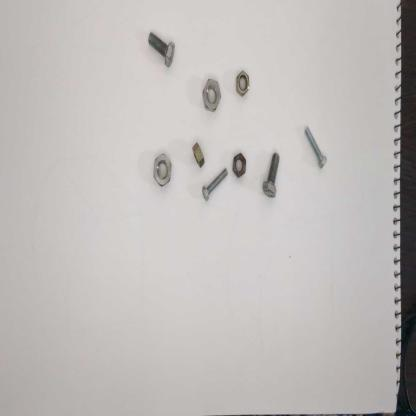Bolts: (144, 23, 177, 72), (300, 121, 328, 178), (261, 150, 283, 202), (200, 167, 230, 203)
NUTS: (201, 73, 226, 113), (151, 149, 172, 187), (190, 137, 208, 172), (233, 67, 252, 98), (232, 150, 250, 180)
